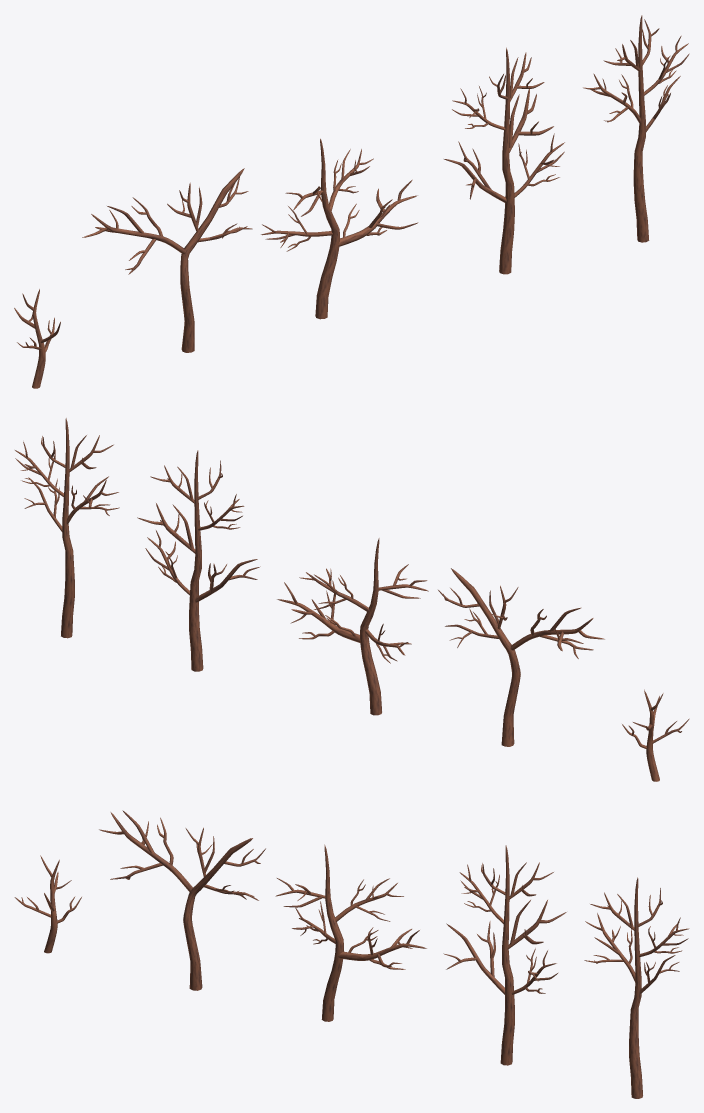
File: tree-dead.glb
3 views of the same model, one above another, from view 1: azimuth 30°, elevation 25°; view 2: azimuth 150°, elevation 25°; view 3: azimuth 330°, elevation 25° (orthographic). The views are drawn at different scales.
Parts seen in each view (by area): view 1: DeadTree_2, DeadTree_3, DeadTree_4, DeadTree_1, DeadTree_5; view 2: DeadTree_2, DeadTree_3, DeadTree_1, DeadTree_4, DeadTree_5; view 3: DeadTree_2, DeadTree_3, DeadTree_1, DeadTree_4, DeadTree_5.
Part boxes in pixels (x1,y1,x2,y2): DeadTree_2: (444, 47, 564, 274); DeadTree_3: (261, 138, 418, 319); DeadTree_4: (82, 168, 252, 352); DeadTree_1: (583, 15, 689, 242); DeadTree_5: (14, 289, 60, 388); DeadTree_2: (137, 450, 260, 671); DeadTree_3: (277, 538, 428, 715); DeadTree_1: (15, 418, 119, 638); DeadTree_4: (438, 568, 604, 746); DeadTree_5: (622, 689, 689, 781); DeadTree_2: (443, 845, 566, 1065); DeadTree_3: (275, 844, 426, 1021); DeadTree_1: (584, 877, 689, 1098); DeadTree_4: (99, 810, 265, 990); DeadTree_5: (14, 855, 81, 953).
Size of the model in its own units: 19.55 by 6.2 by 1.72.
1 material, 1 textured.
